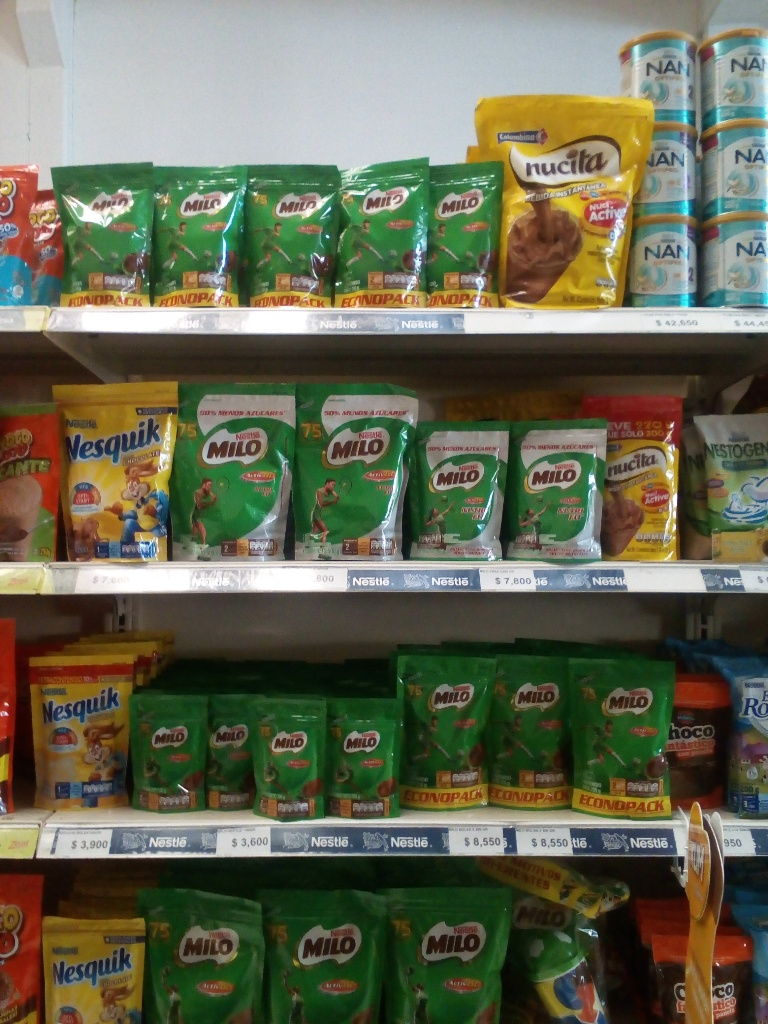COL0170102DYP25000: (0, 397, 62, 565)
COL0170203DYP10000: (124, 691, 205, 813)
COL0170203DYP25000: (51, 164, 161, 316)
COL0170203DYP50000: (143, 881, 264, 1020)
COL0170205DYP20000: (415, 421, 512, 569)
COL0170205DYP50000: (286, 383, 424, 559)
COL0170306DYP20000: (54, 385, 169, 560)
